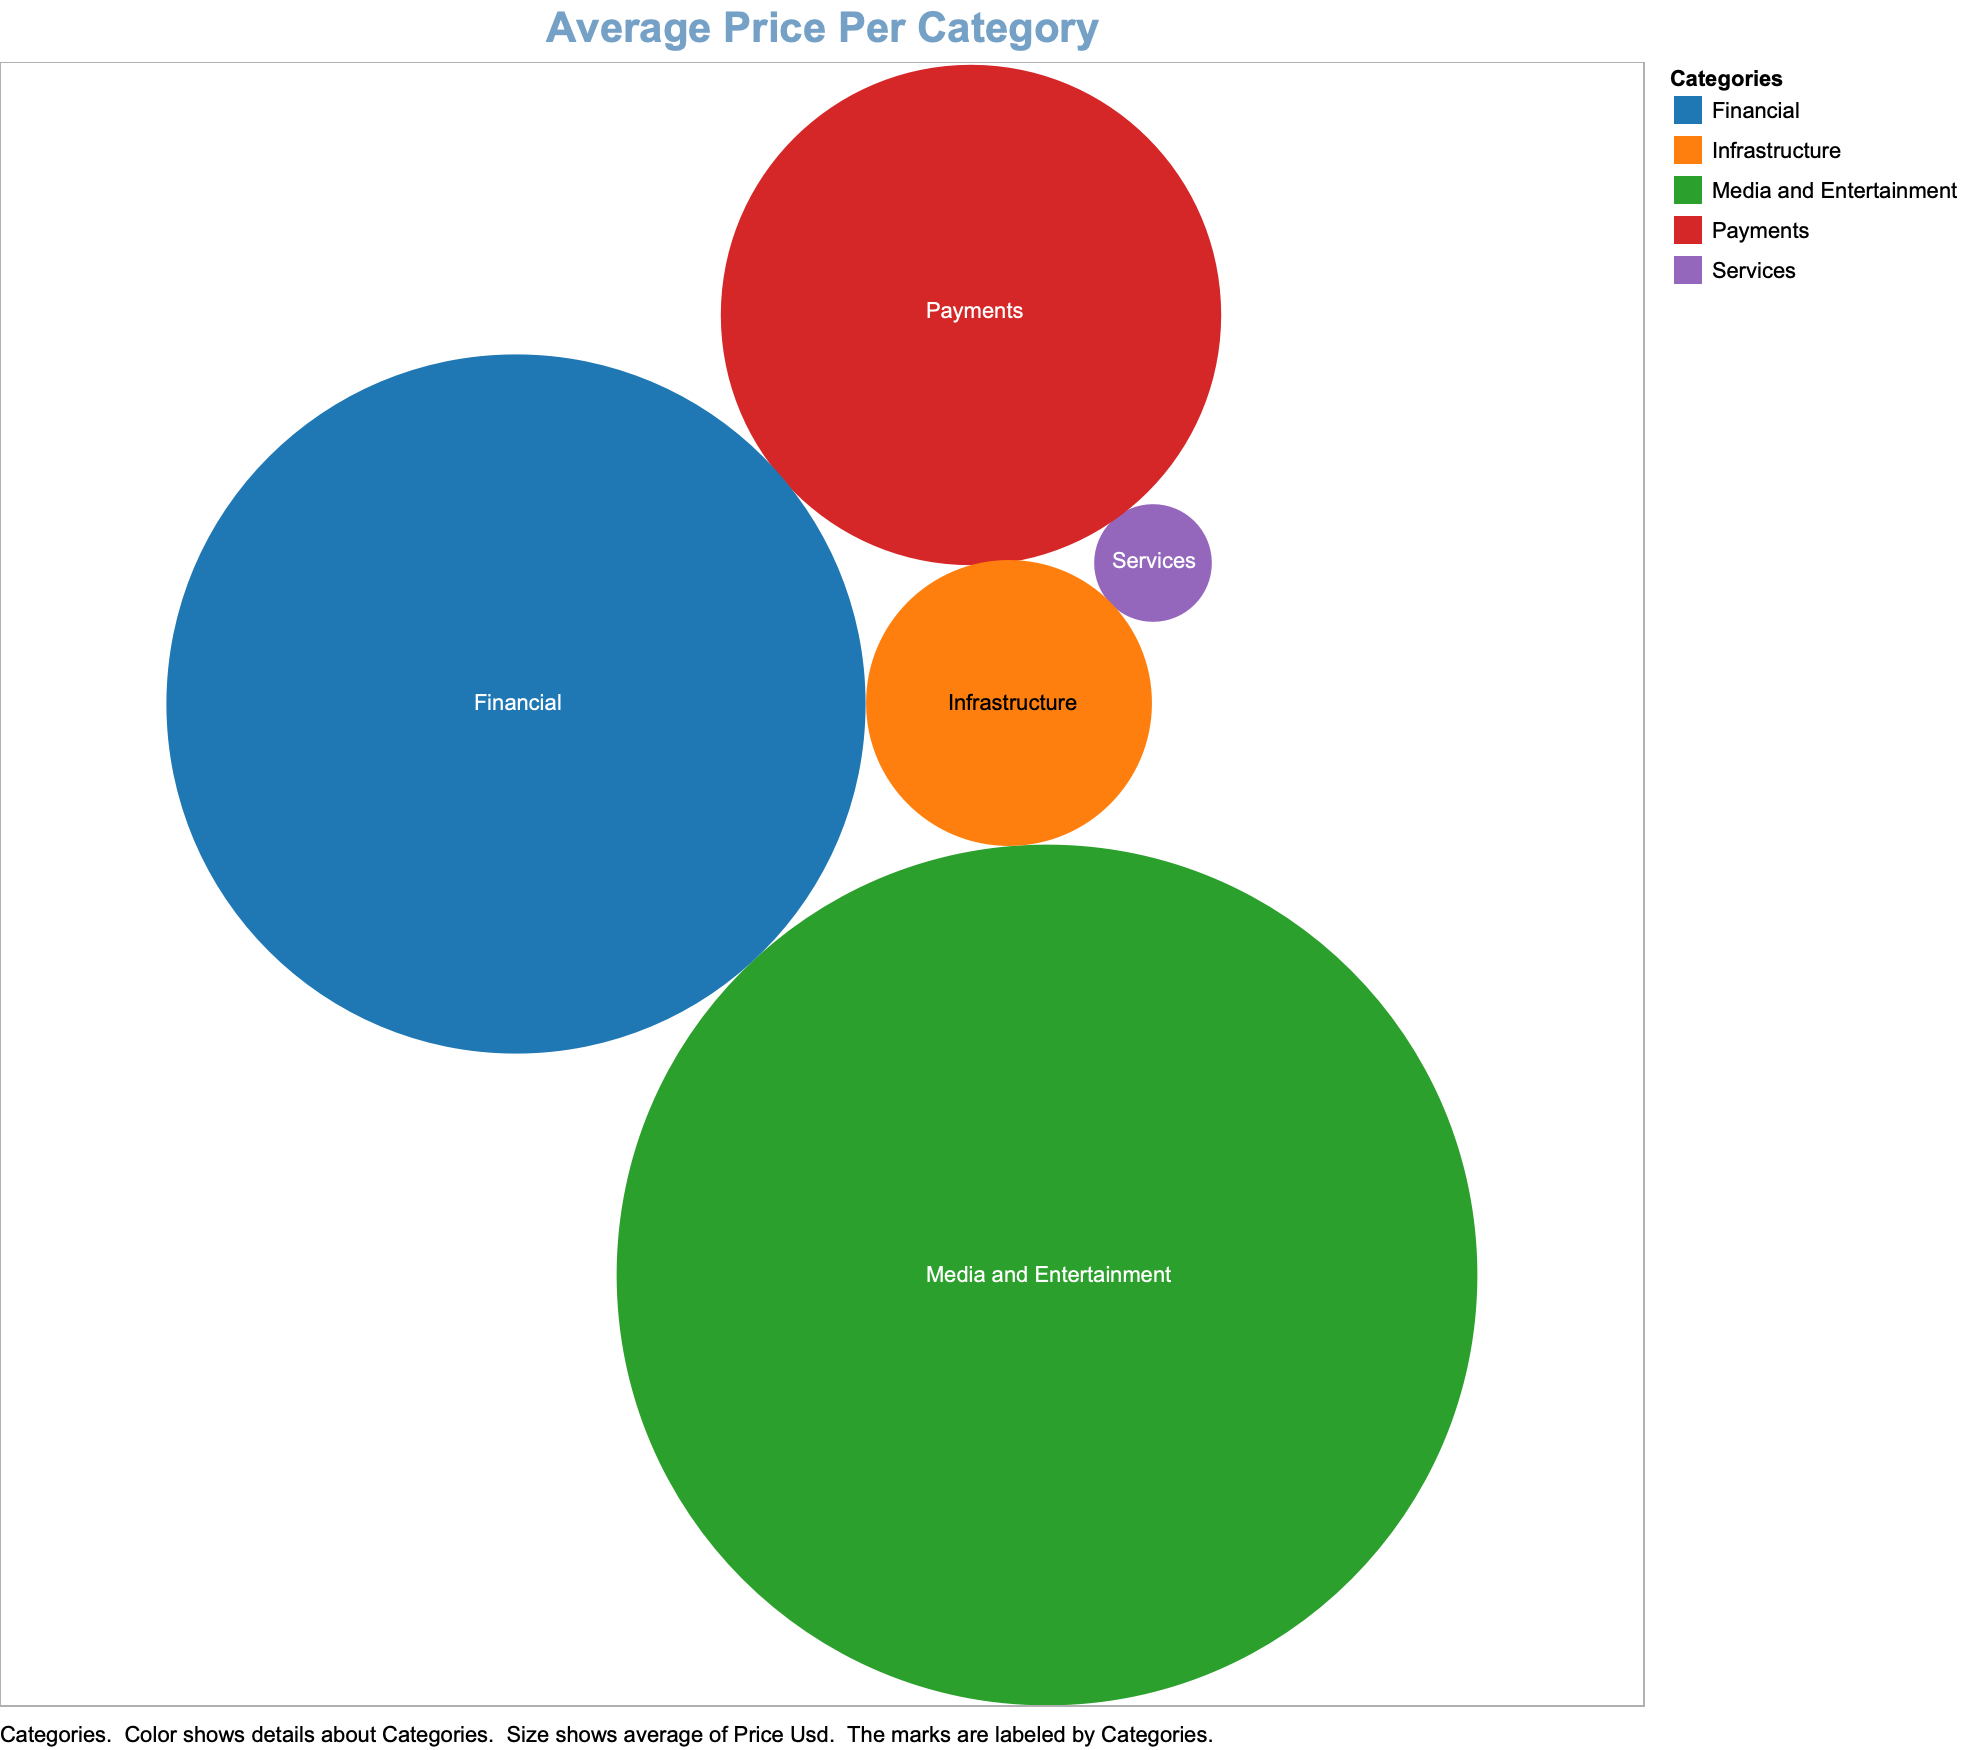

What the dashboard file says about the page in this screenshot:
{"tool":"tableau","page":{"name":"Dashboard 3","canvas":[1000,800],"ordinal":0},"visuals":[{"type":"title","box":[8,8,984,85]},{"type":"image","param":"/Users/kevinrodriguez/Desktop/Final_Project/FinalProject_CryptoAnalysis/crypto-i","box":[8,93,984,699]}]}

Visuals, with their boxes on the page's 1000x800 design canvas (x1, y1, x2, y2). These are canvas units, not pixel positions in the 1966x1750 screenshot, which may show the page scaled, cropped or inside an application window:
title: {"left": 8, "top": 8, "right": 992, "bottom": 93}
image: {"left": 8, "top": 93, "right": 992, "bottom": 792}
